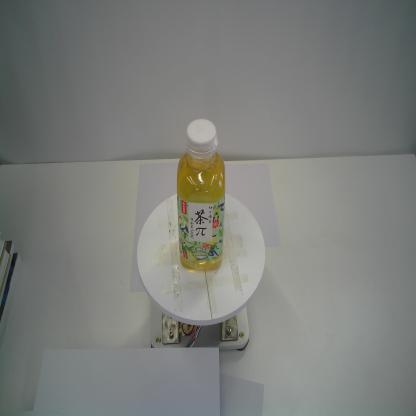Drink: (177, 117, 226, 273)
